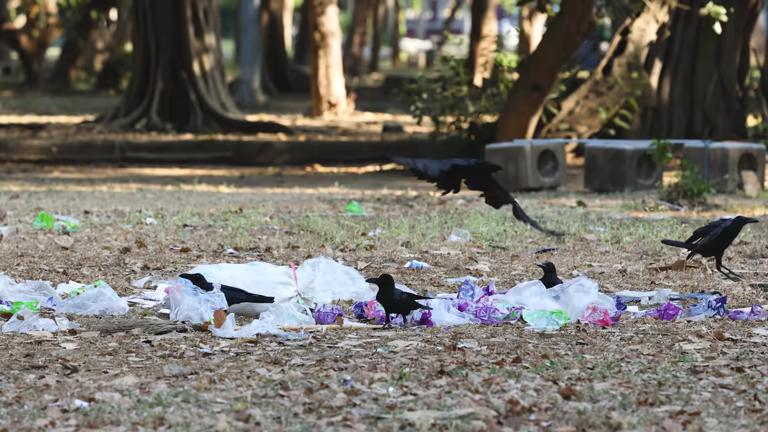trash: (123, 258, 372, 325), (0, 267, 135, 339), (498, 276, 617, 330), (452, 268, 511, 323), (314, 193, 372, 228), (413, 288, 464, 325), (28, 207, 84, 240), (687, 295, 733, 323), (617, 282, 670, 305), (670, 287, 722, 307), (406, 248, 445, 273), (734, 301, 768, 326), (442, 226, 483, 245), (652, 298, 683, 323), (0, 220, 23, 252), (622, 302, 657, 321)
